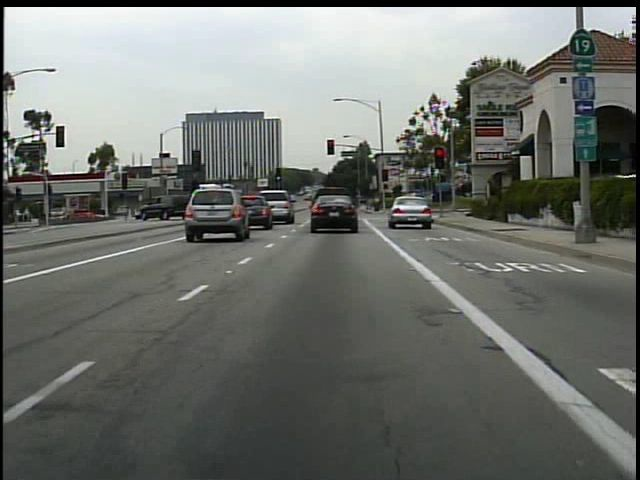person: (372, 194, 384, 214)
